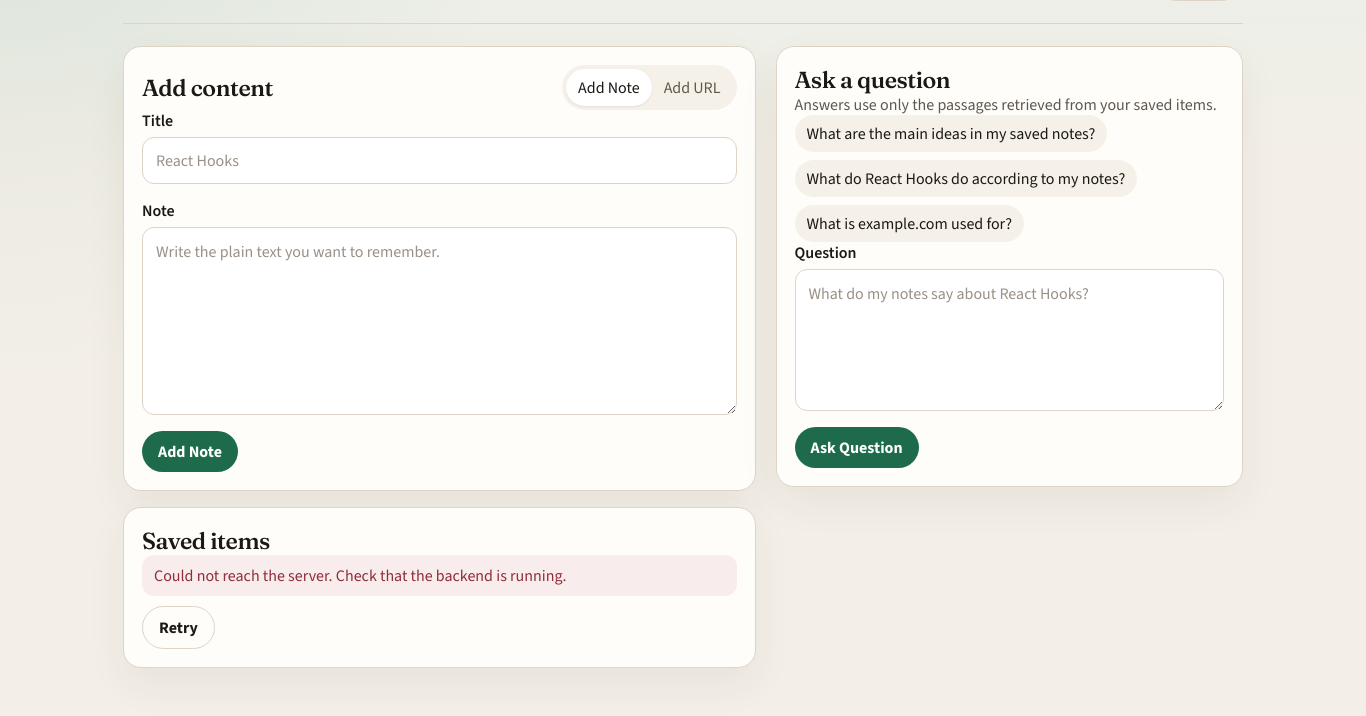
Test: App › shows a load error and retries
This screenshot has width=1366, height=716.
(page scrolled)
Expected: the message shows "Could not reach the server", [154,565,566,586]
What coordinates should you click on to do the following:
click the button "Retry"
I would click on:
 (178, 628)
Its box is [142,606,215,649].
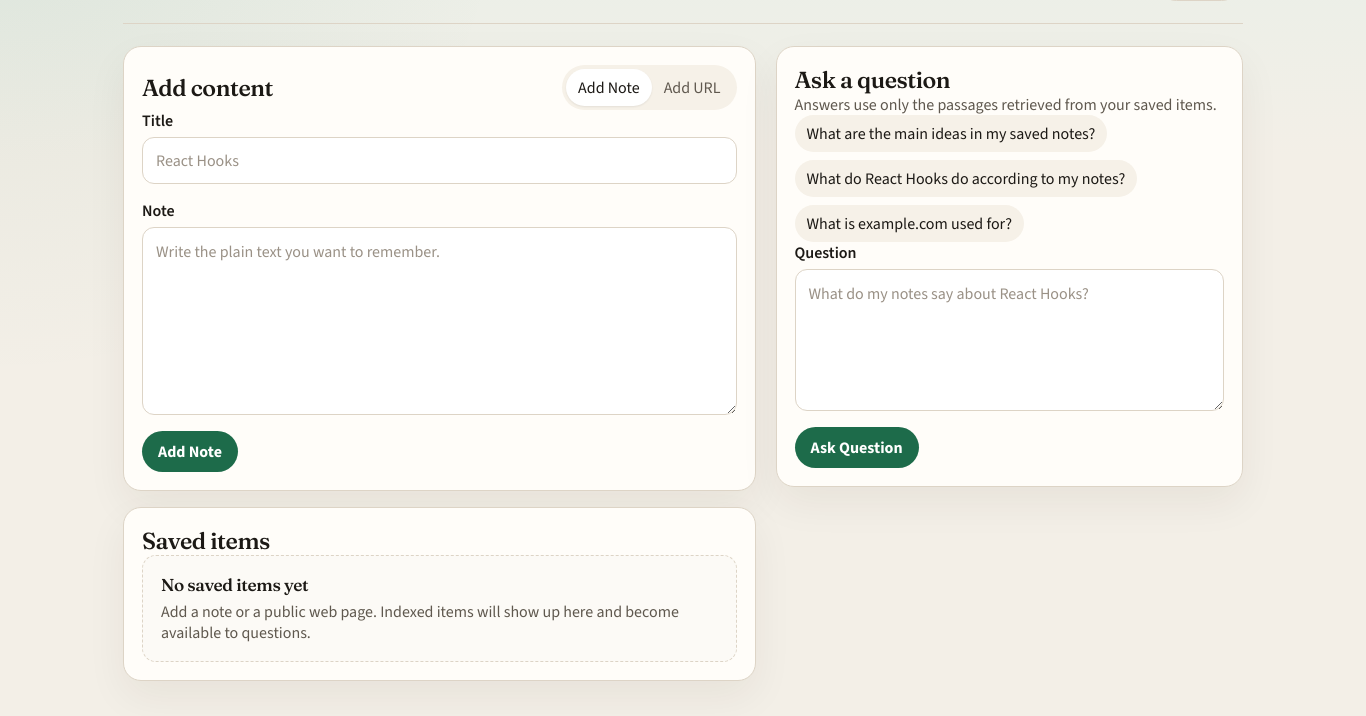
Now the heading "No saved items yet" is shown, box [161,574,308,595]
